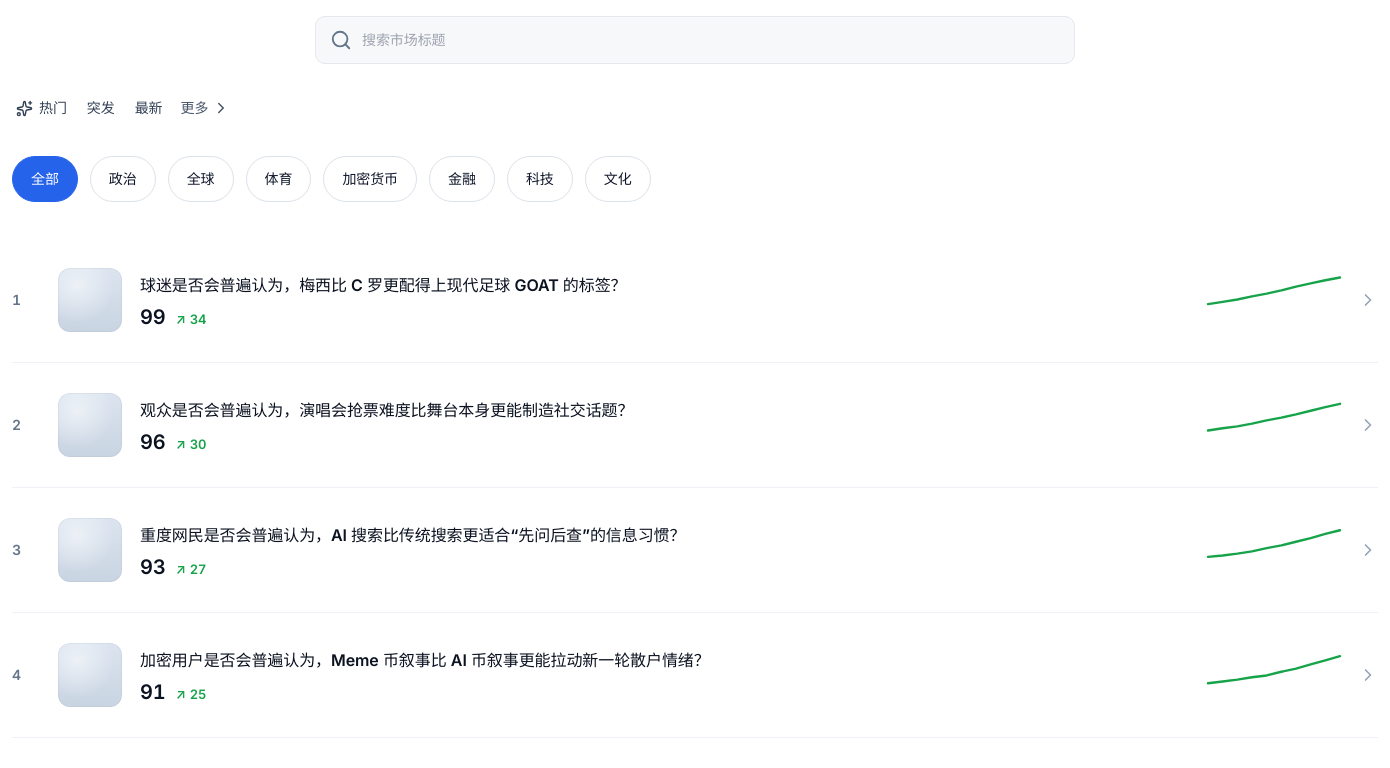
Test case: MarketRankingPage › filters items by title when showSearch is enabled
Type "球迷是否会普遍认为，梅西比 C 罗更配得上现代足球 GOAT 的标签？" into the search field at coordinates (711, 40), box [362,29,1060,51]
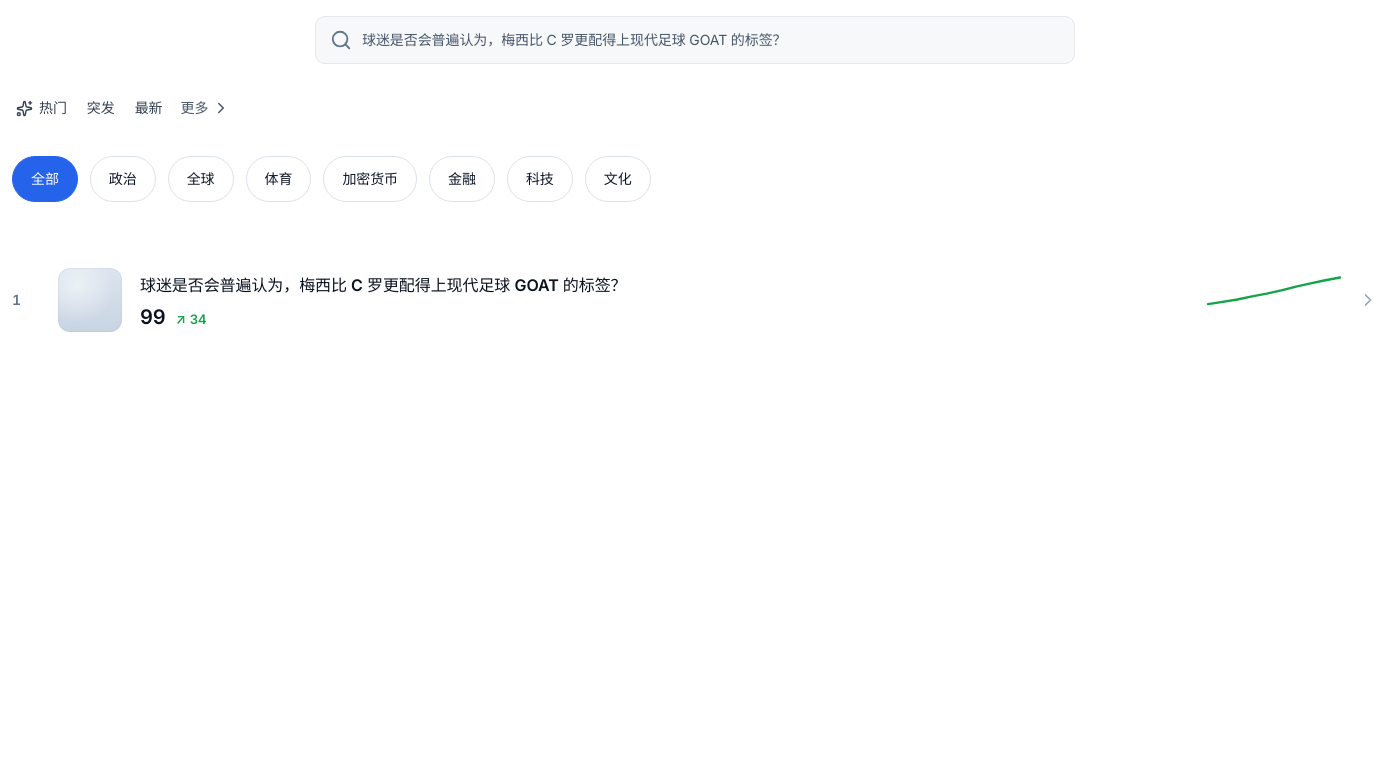
Expected: the heading "球迷是否会普遍认为，梅西比 C 罗更配得上现代足球 GOAT 的标签？" is shown, [140,275,626,295]
Result: the link "观众是否会普遍认为，演唱会抢票难度比舞台本身更能制造社交话题？" is gone
